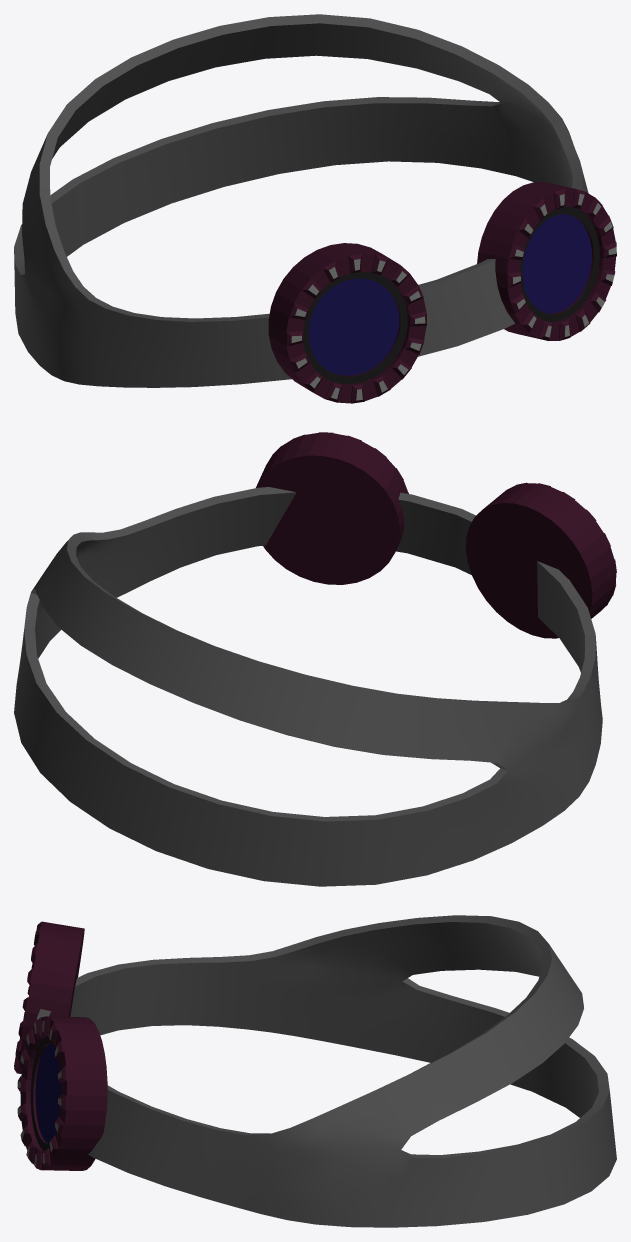
File: untitled.blendxuiny (2).fbx
3 renders of one model, top to bottom at view 1: azimuth 30°, elevation 25°; view 2: azimuth 150°, elevation 25°; view 3: azimuth 270°, elevation 25°, orthographic.
Parts seen in each view (by area): view 1: Circle.001, Circle.002, Circle; view 2: Circle.001, Circle, Circle.002; view 3: Circle.001, Circle, Circle.002.
Boxes of the visible parts, x1,y1,x2,y2 form: Circle.001: (14,14,588,387); Circle.002: (268,243,426,403); Circle: (477,182,616,340); Circle.001: (14,487,602,886); Circle: (256,432,408,584); Circle.002: (466,482,616,638); Circle.001: (36,915,616,1227); Circle: (17,1016,107,1170); Circle.002: (14,921,84,1073).
Size of the model in its own units: 37.32 by 14.86 by 37.99.
